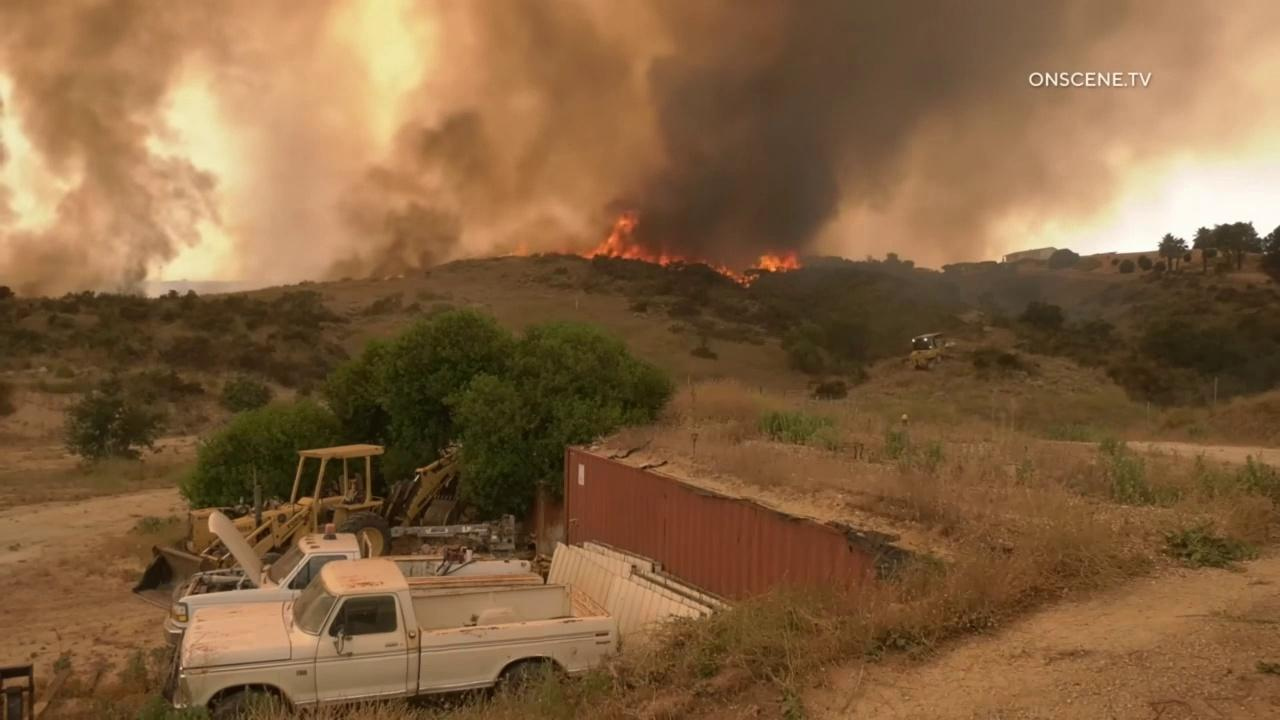fire: (582, 211, 802, 289), (497, 241, 529, 257), (556, 246, 577, 255)
smoke: (0, 0, 1280, 295)
